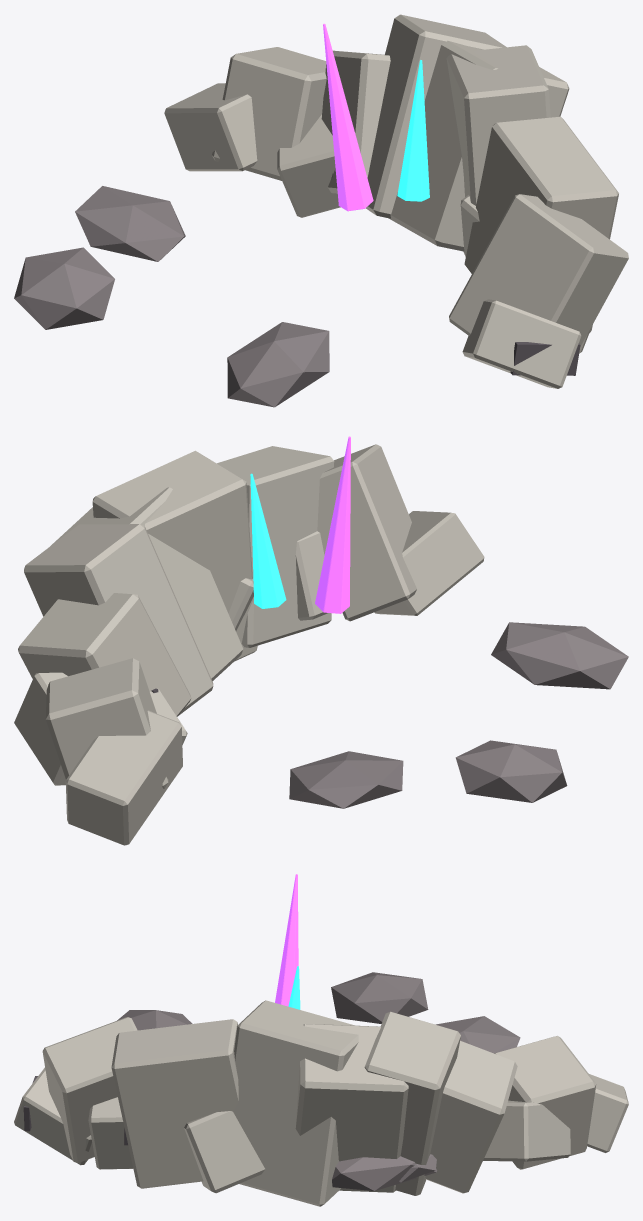
The model's file is runtime.glb.
3 views of the same model, one above another, from view 1: azimuth 30°, elevation 25°; view 2: azimuth 150°, elevation 25°; view 3: azimuth 270°, elevation 25° (orthographic). The views are drawn at different scales.
Visible parts, largest first — view 1: crystal-ruins-rubble-cluster-v04_stone_01_nocol, crystal-ruins-rubble-cluster-v04_stone_03_nocol, crystal-ruins-rubble-cluster-v04_stone_06_nocol, crystal-ruins-rubble-cluster-v04_stone_05_nocol, crystal-ruins-rubble-cluster-v04_stone_10_nocol, crystal-ruins-rubble-cluster-v04_stone_07_nocol, crystal-ruins-rubble-cluster-v04_deposit_00_nocol, crystal-ruins-rubble-cluster-v04_stone_11_nocol, crystal-ruins-rubble-cluster-v04_stone_00_nocol, crystal-ruins-rubble-cluster-v04_deposit_04_nocol, crystal-ruins-rubble-cluster-v04_deposit_01_nocol, crystal-ruins-rubble-cluster-v04_stone_08_nocol (+5 smaller); view 2: crystal-ruins-rubble-cluster-v04_stone_07_nocol, crystal-ruins-rubble-cluster-v04_stone_05_nocol, crystal-ruins-rubble-cluster-v04_stone_08_nocol, crystal-ruins-rubble-cluster-v04_stone_01_nocol, crystal-ruins-rubble-cluster-v04_stone_11_nocol, crystal-ruins-rubble-cluster-v04_stone_03_nocol, crystal-ruins-rubble-cluster-v04_stone_10_nocol, crystal-ruins-rubble-cluster-v04_deposit_00_nocol, crystal-ruins-rubble-cluster-v04_stone_06_nocol, crystal-ruins-rubble-cluster-v04_stone_00_nocol, crystal-ruins-rubble-cluster-v04_deposit_04_nocol, crystal-ruins-rubble-cluster-v04_deposit_01_nocol (+5 smaller); view 3: crystal-ruins-rubble-cluster-v04_stone_05_nocol, crystal-ruins-rubble-cluster-v04_stone_03_nocol, crystal-ruins-rubble-cluster-v04_stone_06_nocol, crystal-ruins-rubble-cluster-v04_stone_08_nocol, crystal-ruins-rubble-cluster-v04_stone_07_nocol, crystal-ruins-rubble-cluster-v04_stone_01_nocol, crystal-ruins-rubble-cluster-v04_stone_10_nocol, crystal-ruins-rubble-cluster-v04_stone_04_nocol, crystal-ruins-rubble-cluster-v04_stone_09_nocol, crystal-ruins-rubble-cluster-v04_deposit_04_nocol, crystal-ruins-rubble-cluster-v04_stone_00_nocol, crystal-ruins-rubble-cluster-v04_stone_02_nocol (+5 smaller).
Boxes of the visible parts, box(x1,y1,x2,y2) form: crystal-ruins-rubble-cluster-v04_stone_01_nocol: box(449, 194, 628, 346); crystal-ruins-rubble-cluster-v04_stone_03_nocol: box(464, 116, 618, 333); crystal-ruins-rubble-cluster-v04_stone_06_nocol: box(389, 40, 569, 251); crystal-ruins-rubble-cluster-v04_stone_05_nocol: box(446, 45, 550, 256); crystal-ruins-rubble-cluster-v04_stone_10_nocol: box(212, 47, 326, 180); crystal-ruins-rubble-cluster-v04_stone_07_nocol: box(366, 14, 506, 218); crystal-ruins-rubble-cluster-v04_deposit_00_nocol: box(227, 322, 329, 407); crystal-ruins-rubble-cluster-v04_stone_11_nocol: box(164, 83, 257, 171); crystal-ruins-rubble-cluster-v04_stone_00_nocol: box(462, 299, 581, 388); crystal-ruins-rubble-cluster-v04_deposit_04_nocol: box(14, 247, 114, 329); crystal-ruins-rubble-cluster-v04_deposit_01_nocol: box(75, 186, 185, 261); crystal-ruins-rubble-cluster-v04_stone_08_nocol: box(321, 50, 390, 193); crystal-ruins-rubble-cluster-v04_stone_07_nocol: box(24, 524, 213, 715); crystal-ruins-rubble-cluster-v04_stone_05_nocol: box(92, 450, 257, 661); crystal-ruins-rubble-cluster-v04_stone_08_nocol: box(18, 593, 191, 716); crystal-ruins-rubble-cluster-v04_stone_01_nocol: box(317, 444, 416, 621); crystal-ruins-rubble-cluster-v04_stone_11_nocol: box(65, 710, 182, 845); crystal-ruins-rubble-cluster-v04_stone_03_nocol: box(217, 446, 334, 647); crystal-ruins-rubble-cluster-v04_stone_10_nocol: box(45, 658, 168, 788); crystal-ruins-rubble-cluster-v04_deposit_00_nocol: box(491, 622, 628, 689); crystal-ruins-rubble-cluster-v04_stone_06_nocol: box(51, 487, 243, 681); crystal-ruins-rubble-cluster-v04_stone_00_nocol: box(374, 511, 484, 615); crystal-ruins-rubble-cluster-v04_deposit_04_nocol: box(455, 740, 567, 802); crystal-ruins-rubble-cluster-v04_deposit_01_nocol: box(289, 751, 403, 808); crystal-ruins-rubble-cluster-v04_stone_05_nocol: box(233, 1000, 358, 1206); crystal-ruins-rubble-cluster-v04_stone_03_nocol: box(111, 1019, 238, 1188); crystal-ruins-rubble-cluster-v04_stone_06_nocol: box(295, 1024, 408, 1192); crystal-ruins-rubble-cluster-v04_stone_08_nocol: box(425, 1040, 517, 1193); crystal-ruins-rubble-cluster-v04_stone_07_nocol: box(364, 1011, 460, 1195); crystal-ruins-rubble-cluster-v04_stone_01_nocol: box(42, 1017, 137, 1162); crystal-ruins-rubble-cluster-v04_stone_10_nocol: box(494, 1036, 596, 1169); crystal-ruins-rubble-cluster-v04_stone_04_nocol: box(184, 1111, 265, 1193); crystal-ruins-rubble-cluster-v04_stone_09_nocol: box(483, 1100, 570, 1161); crystal-ruins-rubble-cluster-v04_deposit_04_nocol: box(331, 972, 428, 1023); crystal-ruins-rubble-cluster-v04_stone_00_nocol: box(14, 1067, 92, 1165); crystal-ruins-rubble-cluster-v04_stone_02_nocol: box(88, 1097, 133, 1169).
Bounding box in the file's own units: 5.29 × 2.93 × 6.51.
